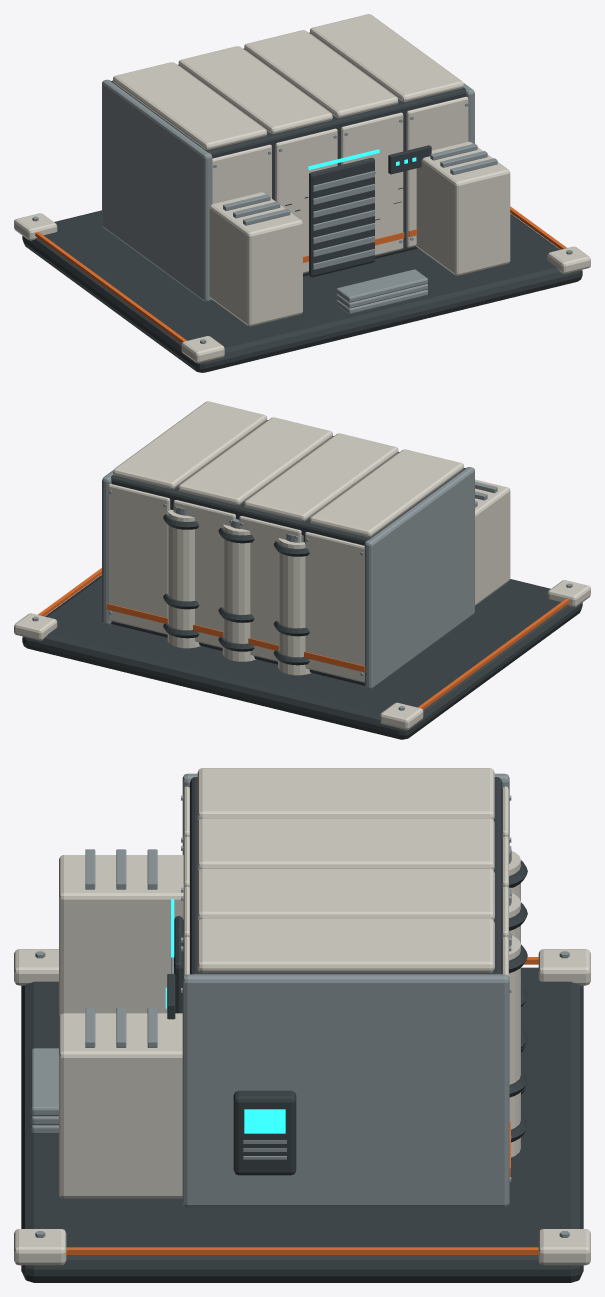
File: SM_PowerSystemsFactory_Body.fbx
The picture shows the model from 3 angles, top to bottom: view 1: azimuth 30°, elevation 25°; view 2: azimuth 150°, elevation 25°; view 3: azimuth 270°, elevation 25°; orthographic projection. The views are drawn at different scales.
Visible parts, largest first — view 1: SM_PowerSystemsFactory_Body; view 2: SM_PowerSystemsFactory_Body; view 3: SM_PowerSystemsFactory_Body.
Boxes of the visible parts, x1=… form: SM_PowerSystemsFactory_Body: x1=14, y1=14, x2=590, y2=372; SM_PowerSystemsFactory_Body: x1=14, y1=401, x2=590, y2=739; SM_PowerSystemsFactory_Body: x1=14, y1=768, x2=590, y2=1282.
Bounding box in the file's own units: 572 × 462 × 243.
